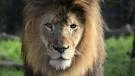lion: (19, 1, 106, 74)
